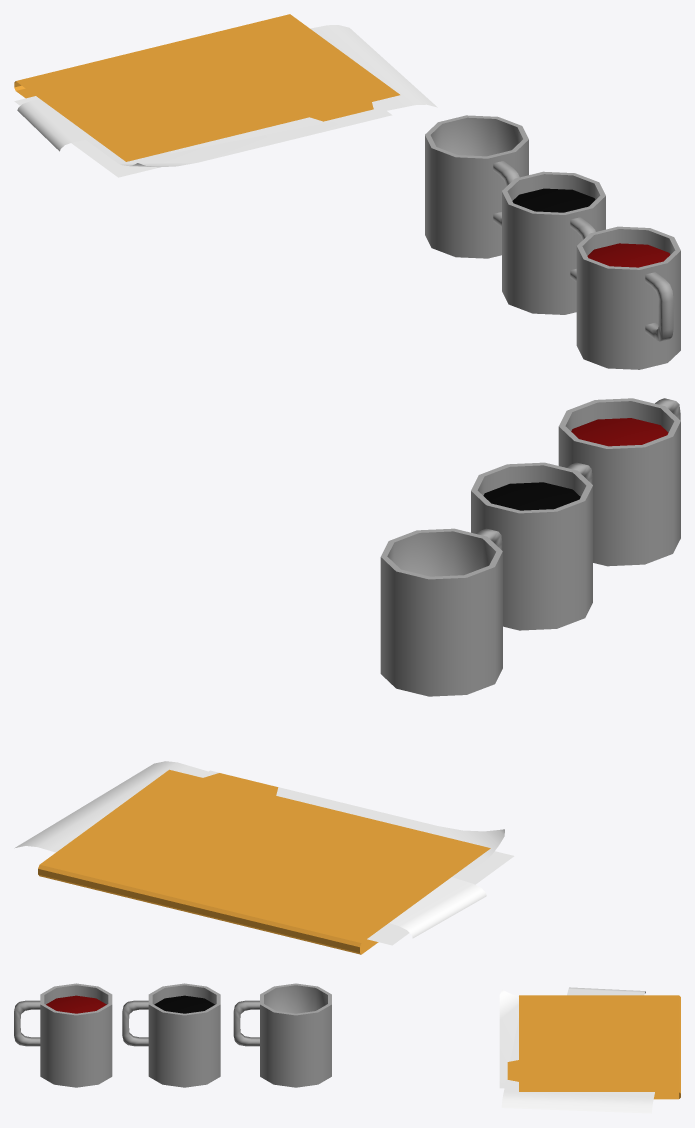
The model's file is DeskStuff.FBX.
The picture shows the model from 3 angles, top to bottom: view 1: azimuth 30°, elevation 25°; view 2: azimuth 150°, elevation 25°; view 3: azimuth 270°, elevation 25°; orthographic projection. The views are drawn at different scales.
Parts seen in each view (by area): view 1: File, Coffee_Blood, Coffee_Empty, Coffee_Full; view 2: File, Coffee_Empty, Coffee_Full, Coffee_Blood; view 3: File, Coffee_Full, Coffee_Blood, Coffee_Empty.
Part boxes in pixels (x1=…): File: x1=14, y1=14, x2=437, y2=177; Coffee_Blood: x1=576, y1=226, x2=680, y2=369; Coffee_Empty: x1=425, y1=115, x2=528, y2=258; Coffee_Full: x1=502, y1=171, x2=605, y2=314; File: x1=14, y1=761, x2=514, y2=954; Coffee_Empty: x1=380, y1=528, x2=502, y2=696; Coffee_Full: x1=471, y1=462, x2=592, y2=630; Coffee_Blood: x1=558, y1=398, x2=680, y2=566; File: x1=499, y1=987, x2=680, y2=1113; Coffee_Full: x1=122, y1=983, x2=220, y2=1087; Coffee_Blood: x1=14, y1=983, x2=112, y2=1087; Coffee_Empty: x1=233, y1=983, x2=331, y2=1087.
Bounding box in the file's own units: 17.99 × 4.96 × 41.49.
